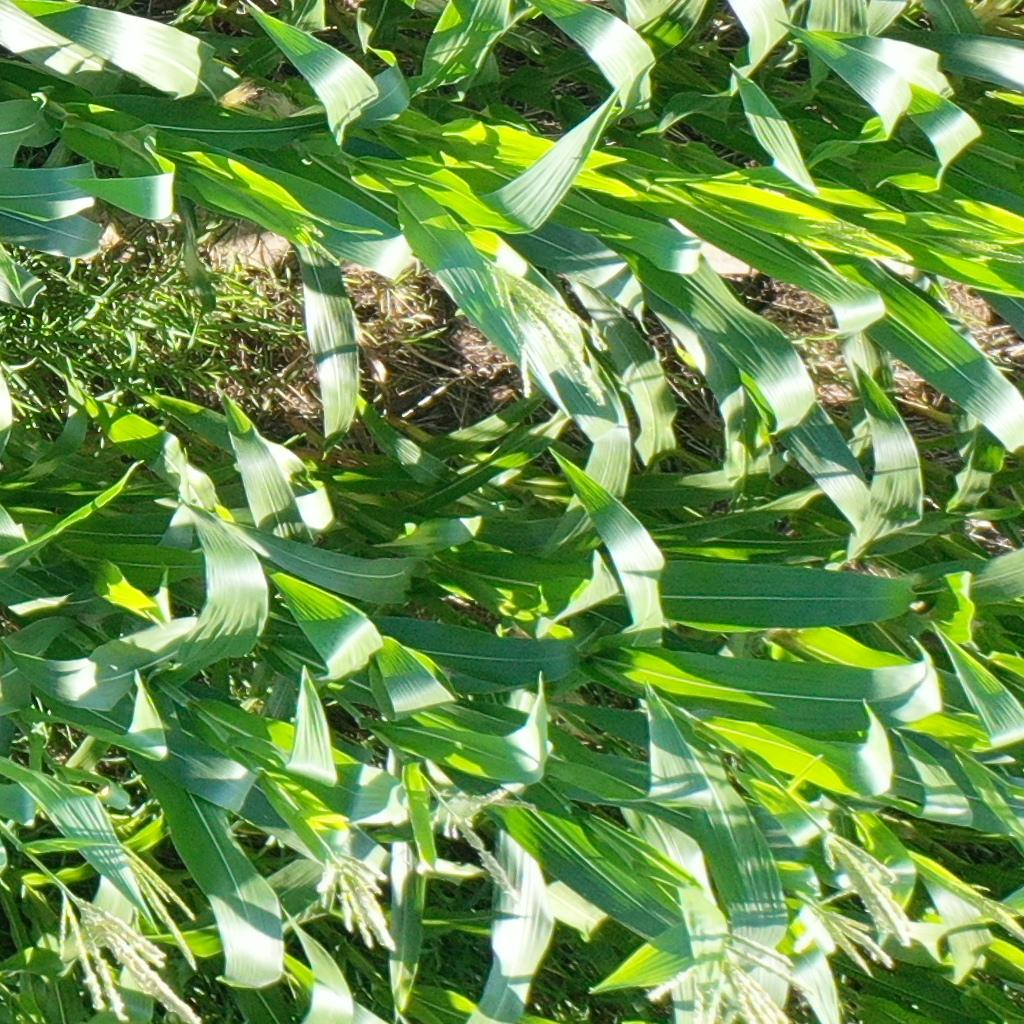Tassel: (46, 882, 204, 1024), (479, 257, 617, 405), (646, 921, 818, 1024), (426, 787, 547, 900), (812, 826, 917, 948), (125, 835, 208, 963), (310, 847, 404, 950), (792, 882, 897, 972), (787, 212, 877, 279), (931, 227, 1024, 268), (286, 208, 342, 267), (964, 885, 1024, 940)
